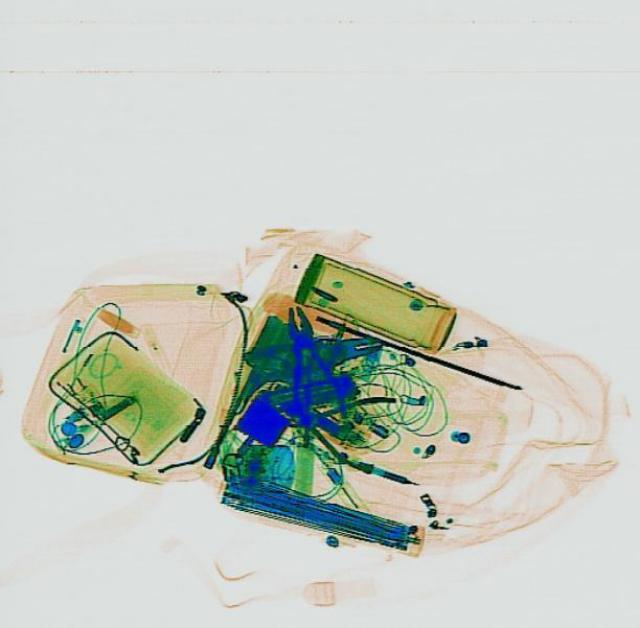Pliers: (275, 372, 425, 481), (268, 299, 354, 445), (236, 317, 384, 388)
